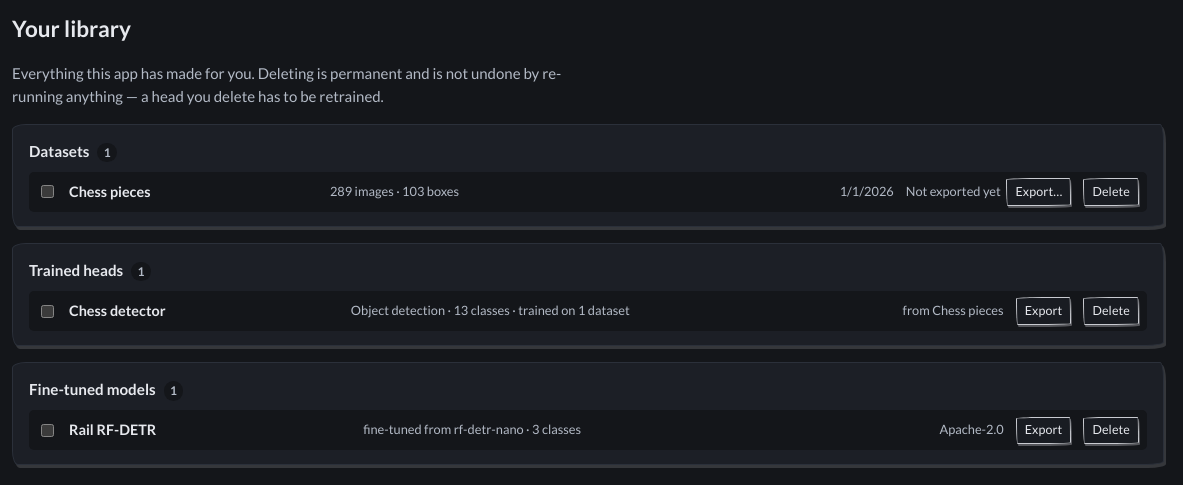
it: deleting › asks before it deletes
The width and height of the screenshot is (1183, 485).
Click the button with aria-label "Delete Chess pieces".
click(1111, 192)  # box top-left (1083, 178), bottom-right (1139, 206)
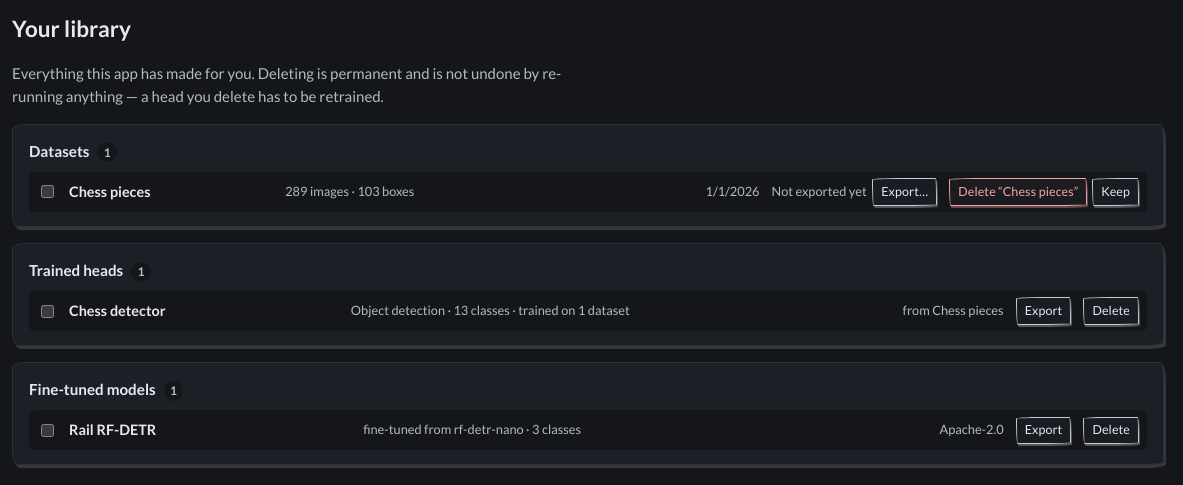
Expected: the button "Delete “Chess pieces”" is shown, top-left (949, 178), bottom-right (1088, 206)
